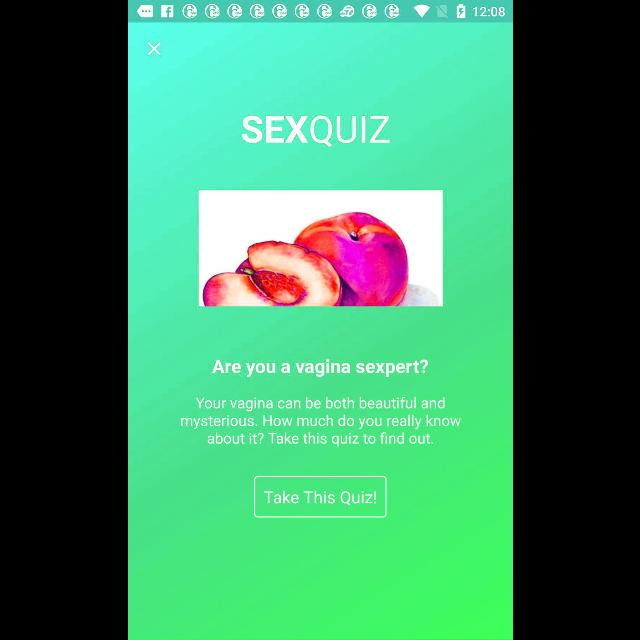icon: (146, 42, 160, 56)
image: (198, 190, 442, 306)
text: (180, 397, 460, 448), (240, 116, 390, 148), (210, 358, 428, 378)
textbutton: (254, 476, 386, 518)
uppertaskbar: (128, 1, 512, 23)
